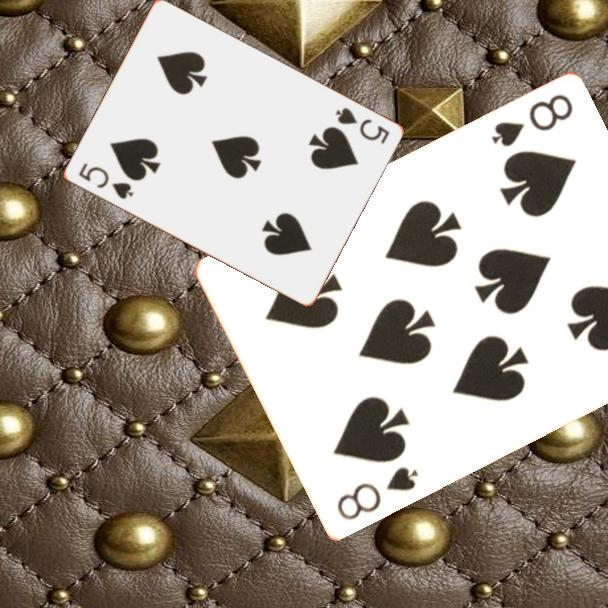s05: (331, 104, 392, 147), (74, 160, 136, 202)
s08: (333, 464, 422, 524), (487, 91, 576, 150)
